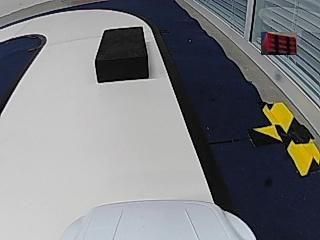block: (94, 26, 149, 81)
